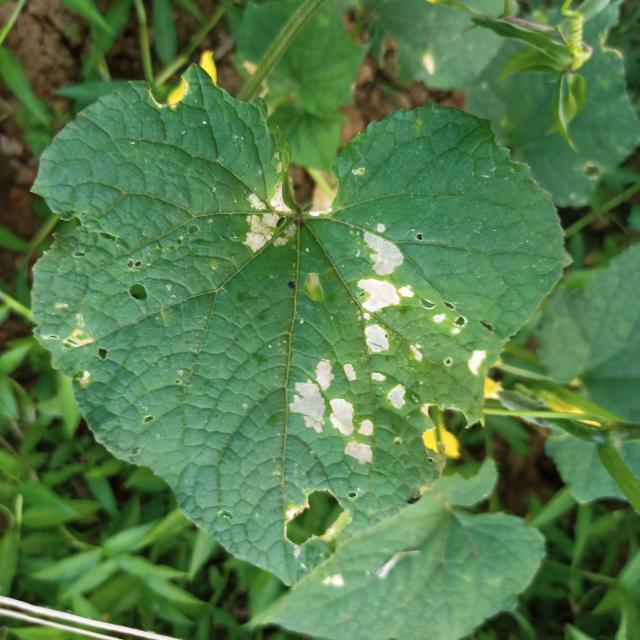disease_cucumber: (346, 226, 488, 411), (289, 358, 381, 470), (227, 173, 306, 262)
